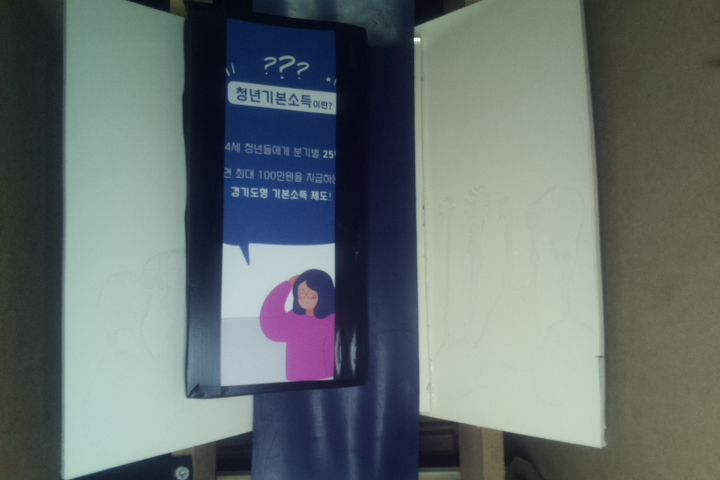book: (182, 18, 366, 398)
